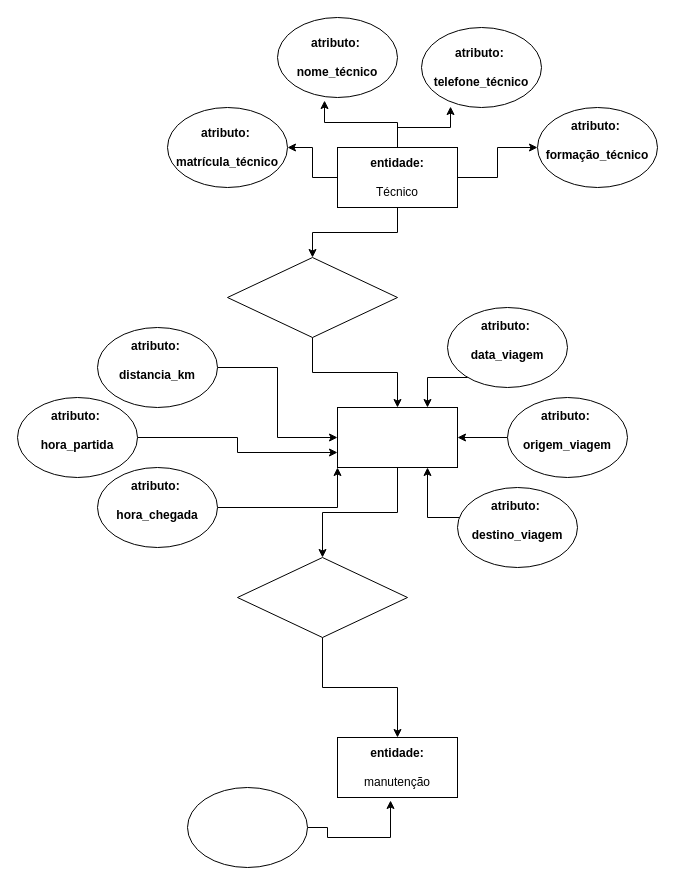
Image size: 675x885. Some labels were removed from this diagram. Each missing label, with the centre of its shape:
"atributo: num_manutencao" goes at point (247, 827).
"entidade: viagem" goes at point (397, 437).
"relação: para" goes at point (322, 597).
"relação: realiza" goes at point (312, 297).
